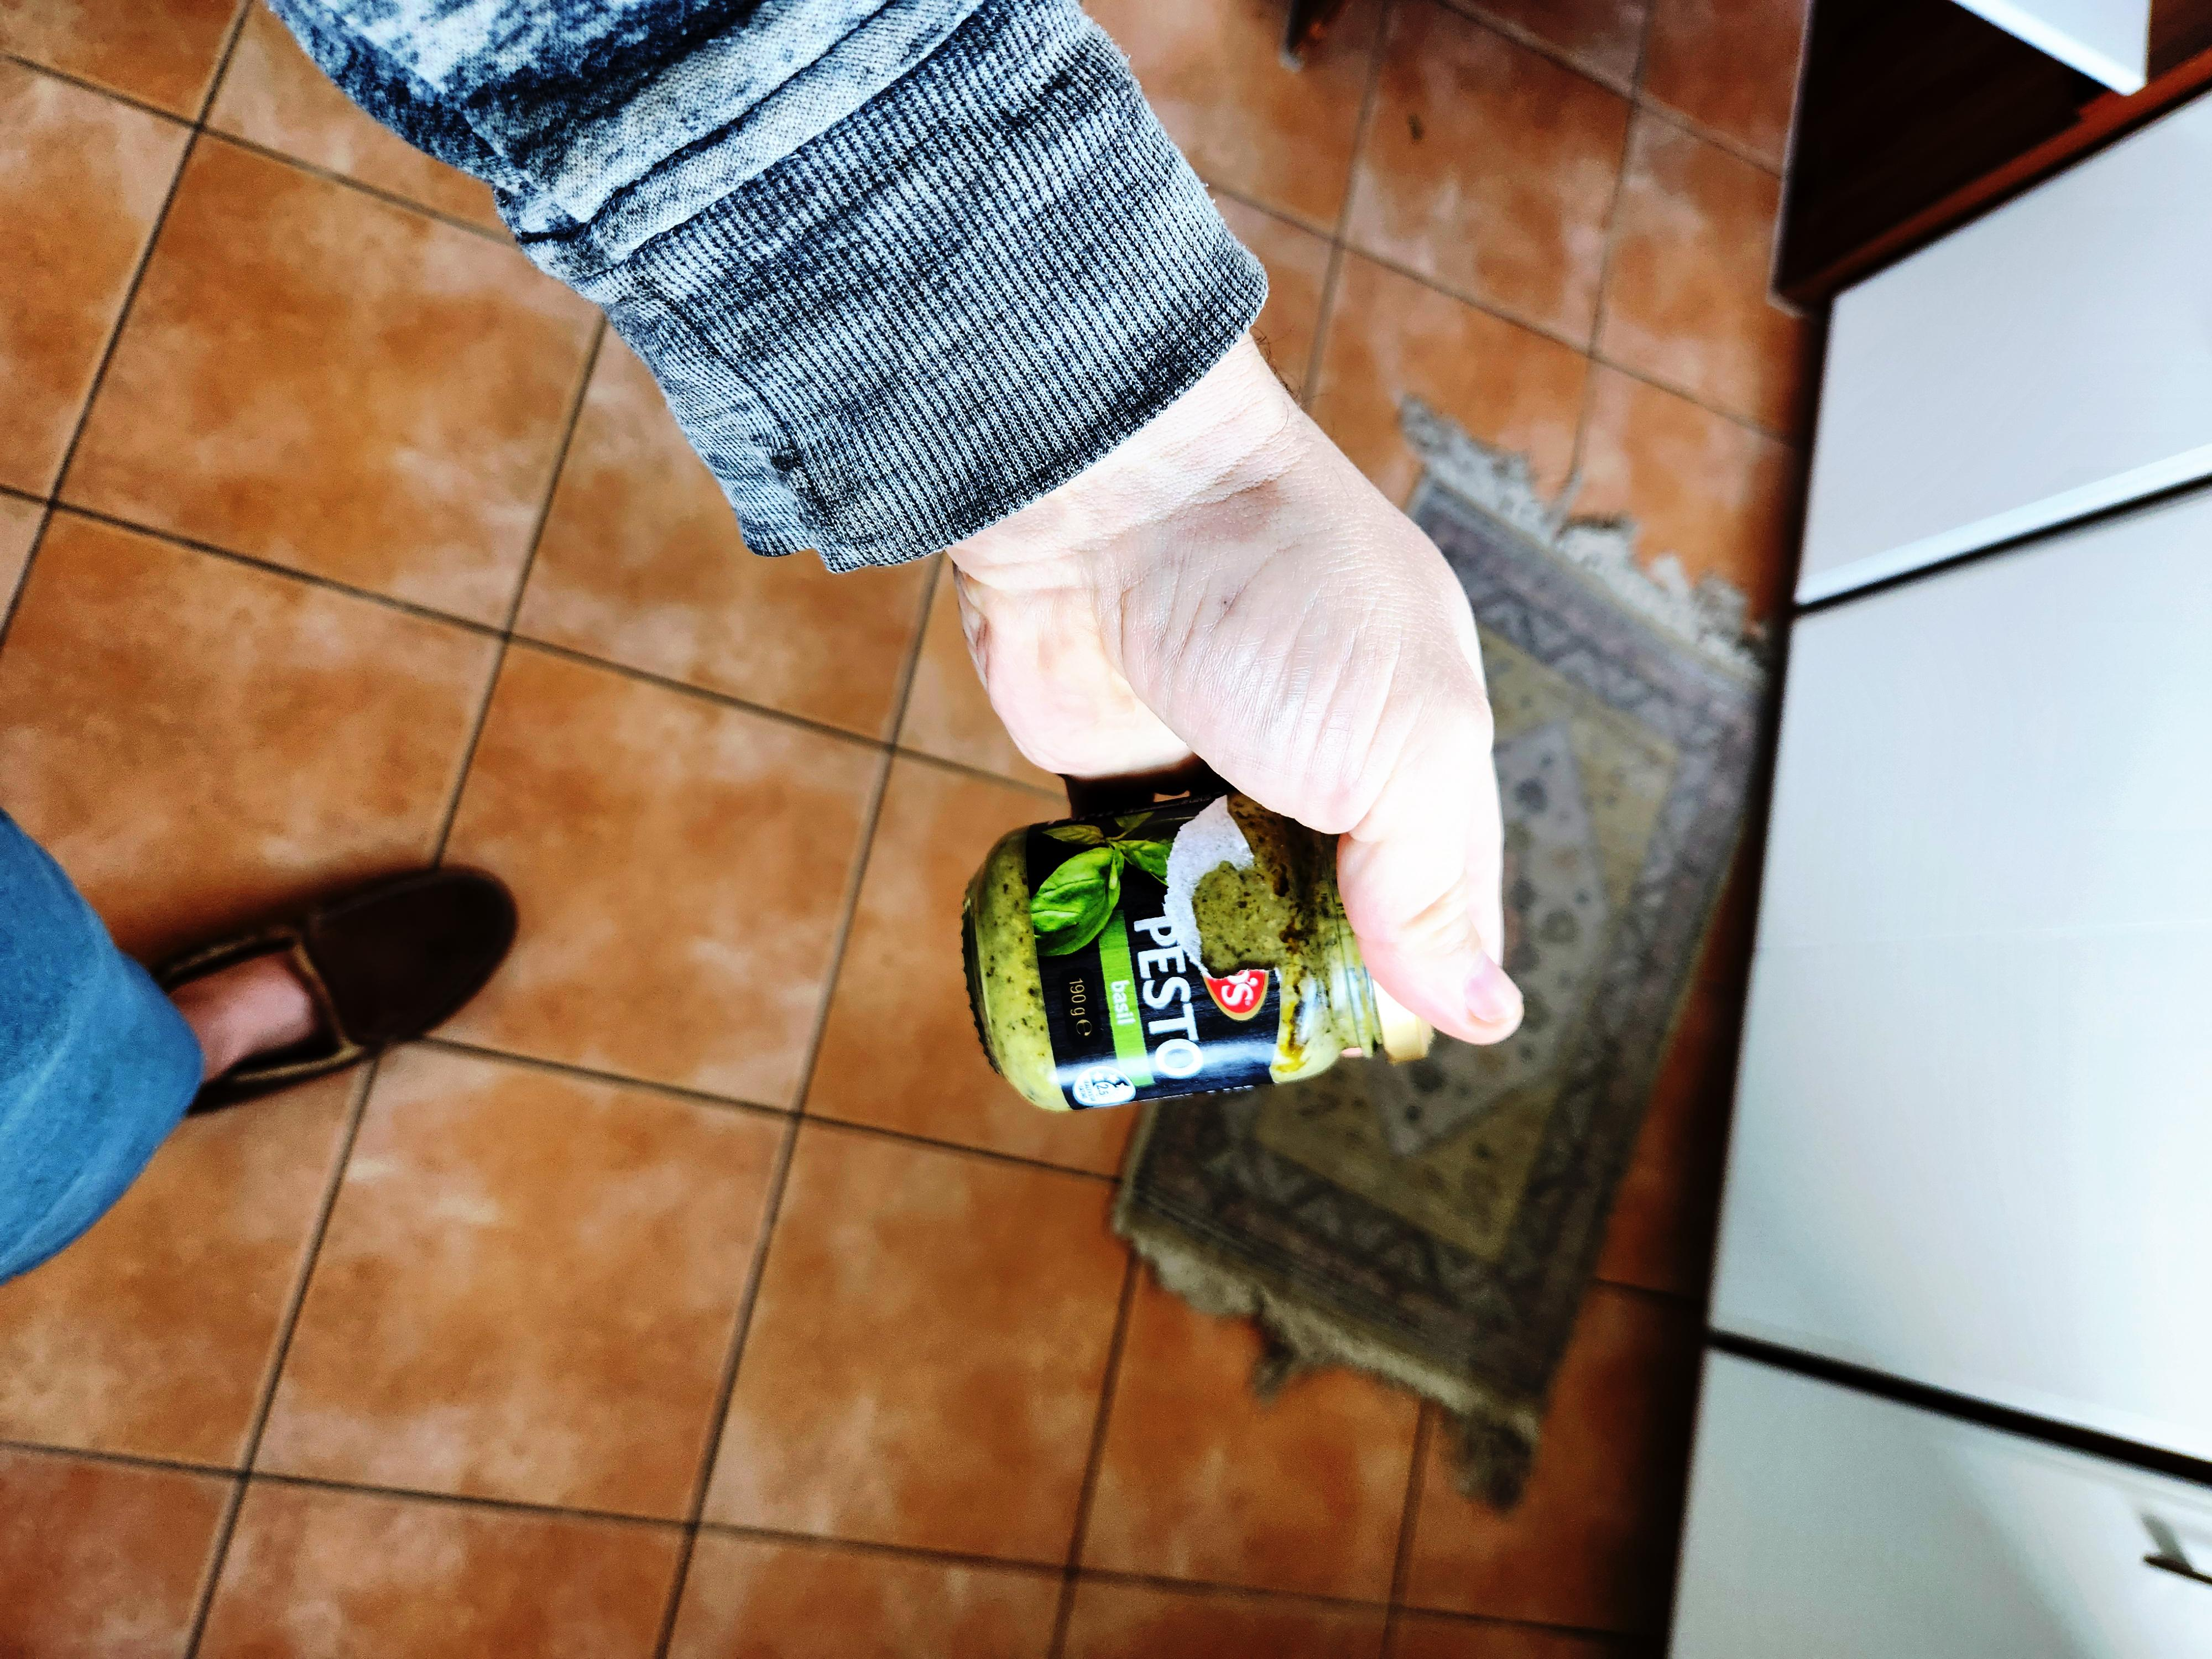basil pesto: (968, 793, 1440, 1108)
